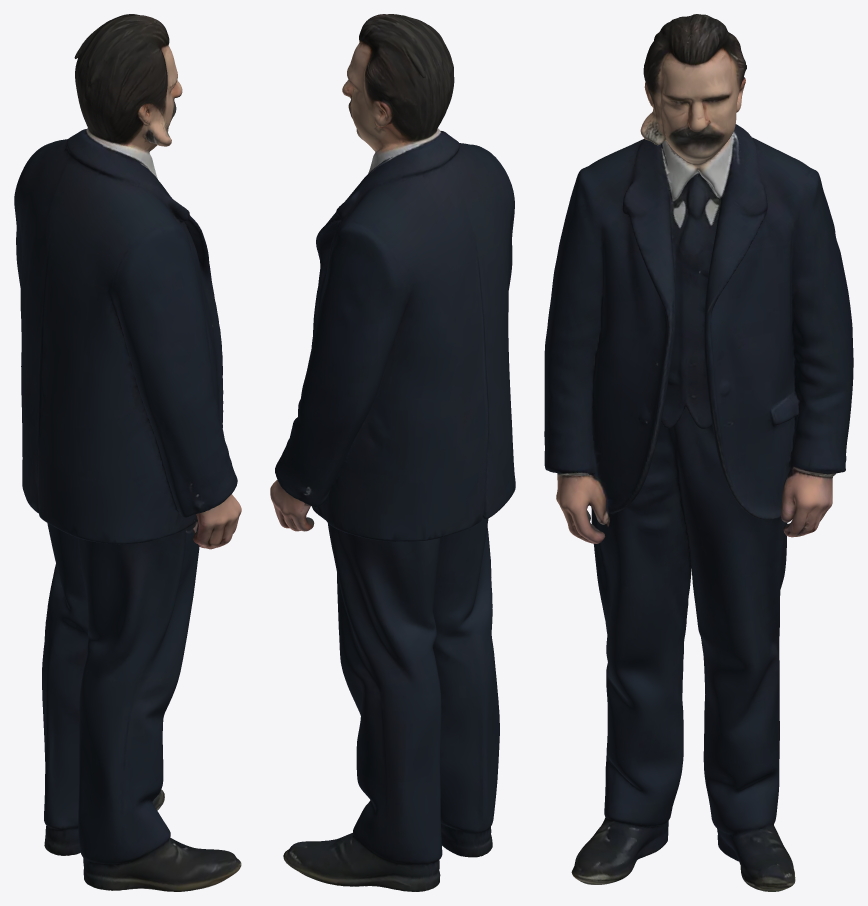
File: nietzsche.glb
3 views of the same model, side by side, from view 1: azimuth 30°, elevation 25°; view 2: azimuth 150°, elevation 25°; view 3: azimuth 270°, elevation 25° (orthographic).
Parts seen in each view (by area): view 1: tripo_node_1aae6c6b-20c4-4719-ac49-eede3d69ff0f; view 2: tripo_node_1aae6c6b-20c4-4719-ac49-eede3d69ff0f; view 3: tripo_node_1aae6c6b-20c4-4719-ac49-eede3d69ff0f.
Part boxes in pixels (x1,y1,x2,y2): tripo_node_1aae6c6b-20c4-4719-ac49-eede3d69ff0f: (14, 14, 241, 891); tripo_node_1aae6c6b-20c4-4719-ac49-eede3d69ff0f: (270, 14, 515, 891); tripo_node_1aae6c6b-20c4-4719-ac49-eede3d69ff0f: (544, 14, 853, 891).
Size of the model in its own units: 0.2097 by 1 by 0.3295.
1 material, 1 textured.
